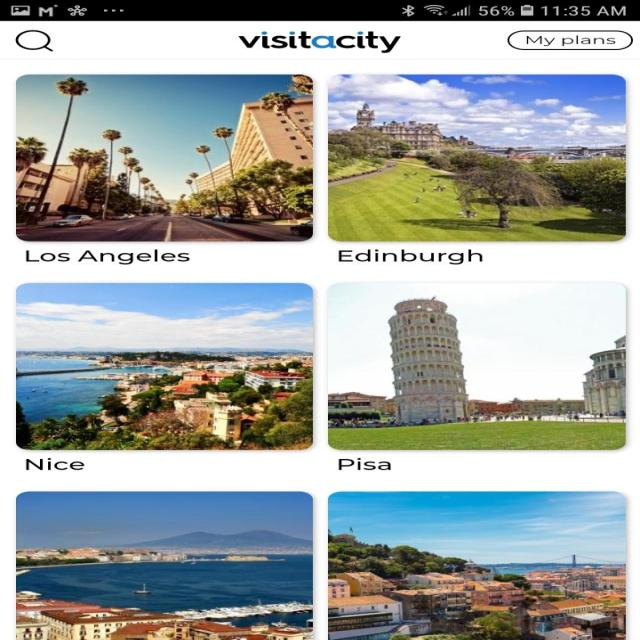Icon: (14, 30, 54, 52)
Image: (327, 282, 626, 450), (15, 282, 313, 450), (327, 74, 625, 242), (16, 74, 314, 242), (15, 490, 313, 640), (327, 491, 624, 639), (238, 31, 401, 53)
Text: (338, 249, 482, 265), (26, 250, 190, 264), (26, 457, 86, 470), (338, 457, 391, 470)
TextButton: (507, 30, 633, 50)
